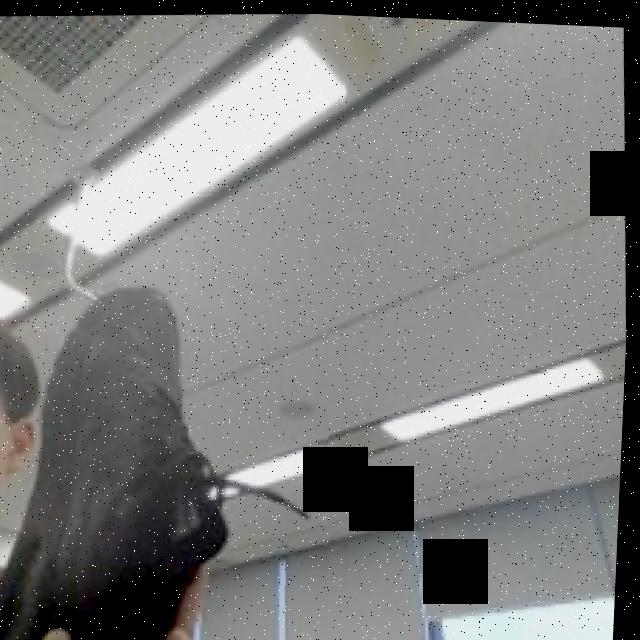shoe: (0, 230, 351, 640)
